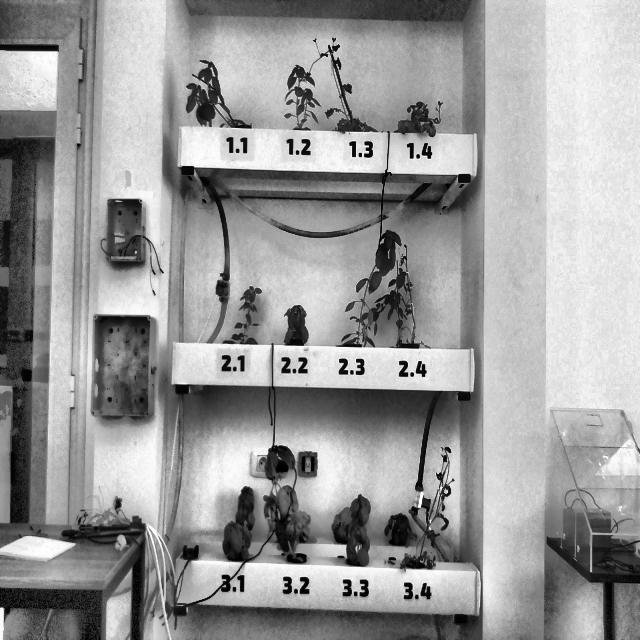plants: (343, 230, 399, 346), (406, 445, 452, 565), (264, 446, 306, 560), (185, 59, 249, 126), (325, 43, 372, 129), (265, 490, 316, 548), (284, 63, 321, 129), (224, 286, 262, 344), (343, 493, 371, 566), (398, 100, 442, 134), (402, 242, 415, 343), (233, 486, 256, 536), (222, 522, 253, 559), (385, 513, 415, 547), (284, 305, 309, 341), (332, 508, 355, 544)
